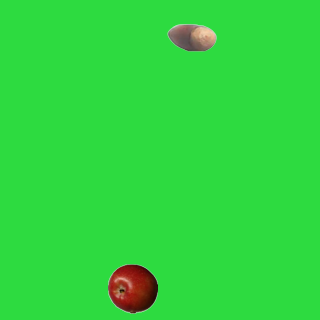Apple Braeburn: (107, 263, 157, 313)
Hazelnut: (166, 12, 216, 62)
